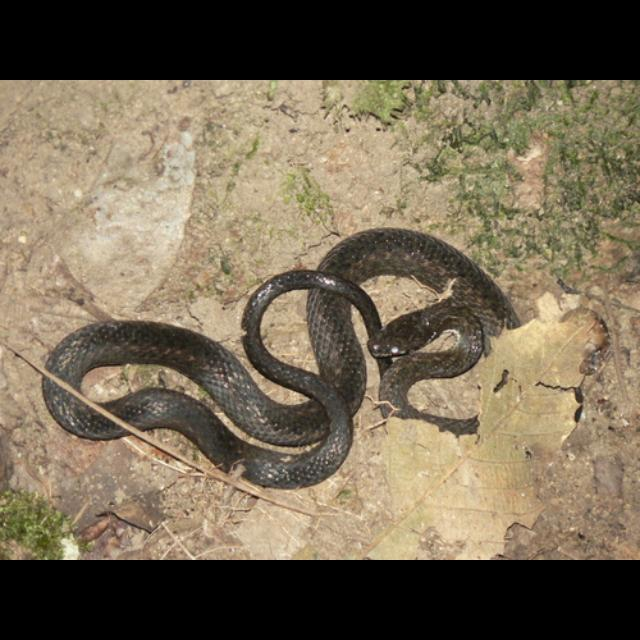snake: (49, 227, 524, 488)
